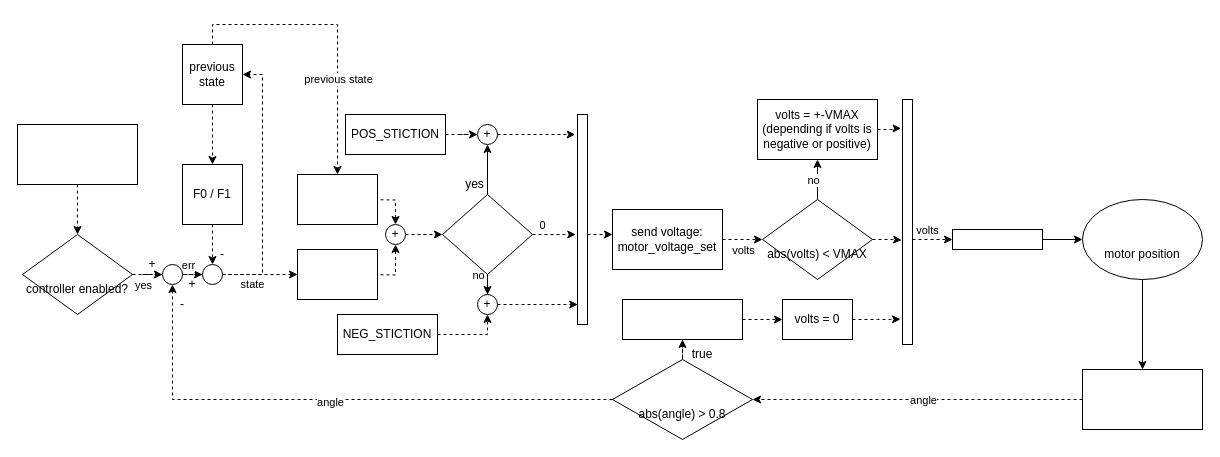
Image size: 1220x457. Some labels were removed from this diagram. The centre of each missing label's shape, as x and y in pixels:
"controller_disable()" belongs at [682,319].
"G0 / F1" belongs at [337,199].
"G1 / F1" belongs at [337,274].
"generate pwm" belongs at [997,239].
"is positive?" belongs at [487,234].
"motor angle sensor" belongs at [1142,399].
"set target angle reference: theta_desired_set()" belongs at [77,154].
